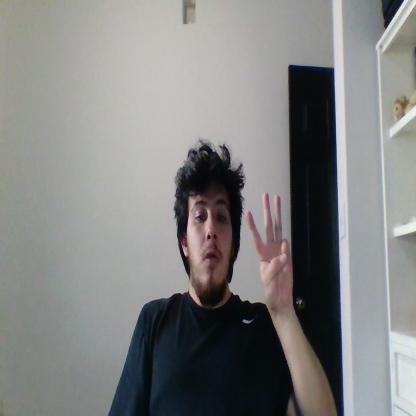W: (246, 192, 292, 308)
